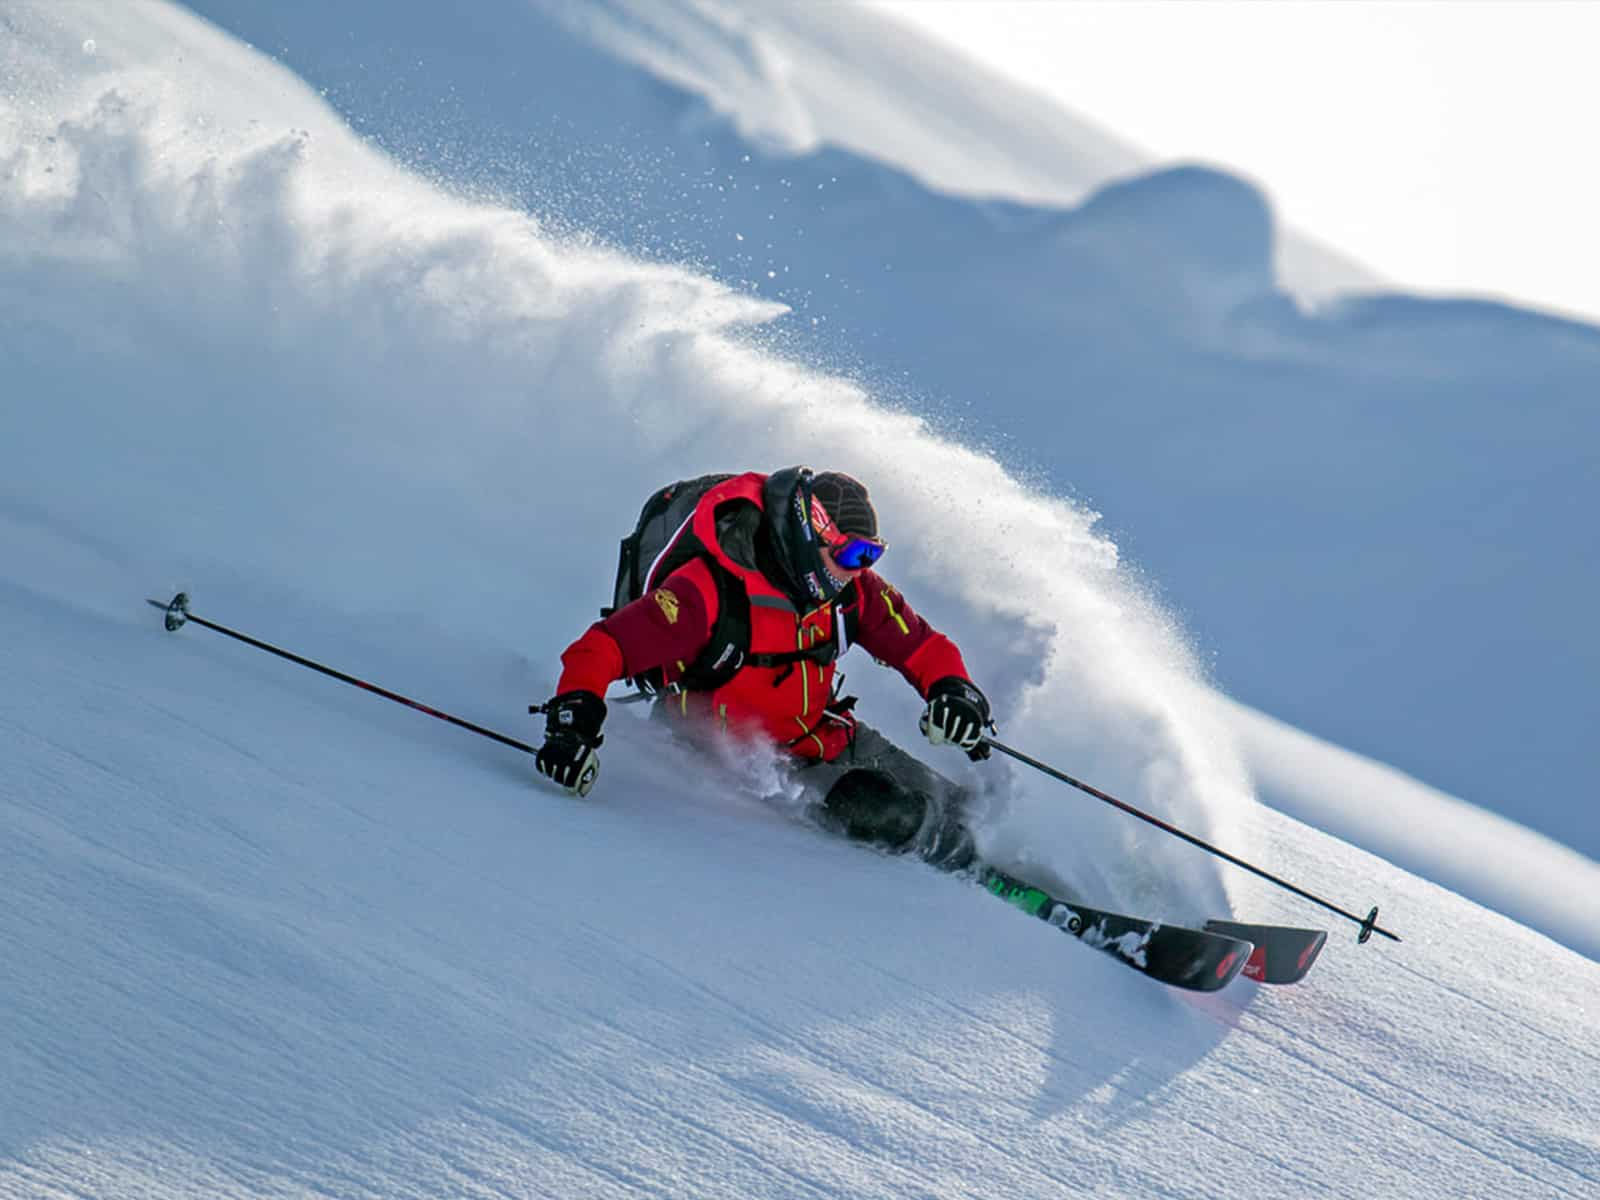skier: (139, 469, 1414, 988)
